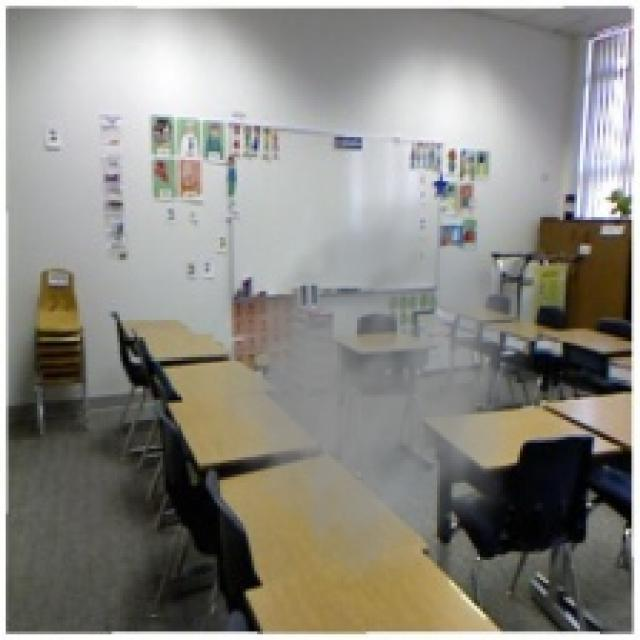Smoke: (180, 180, 534, 597)
